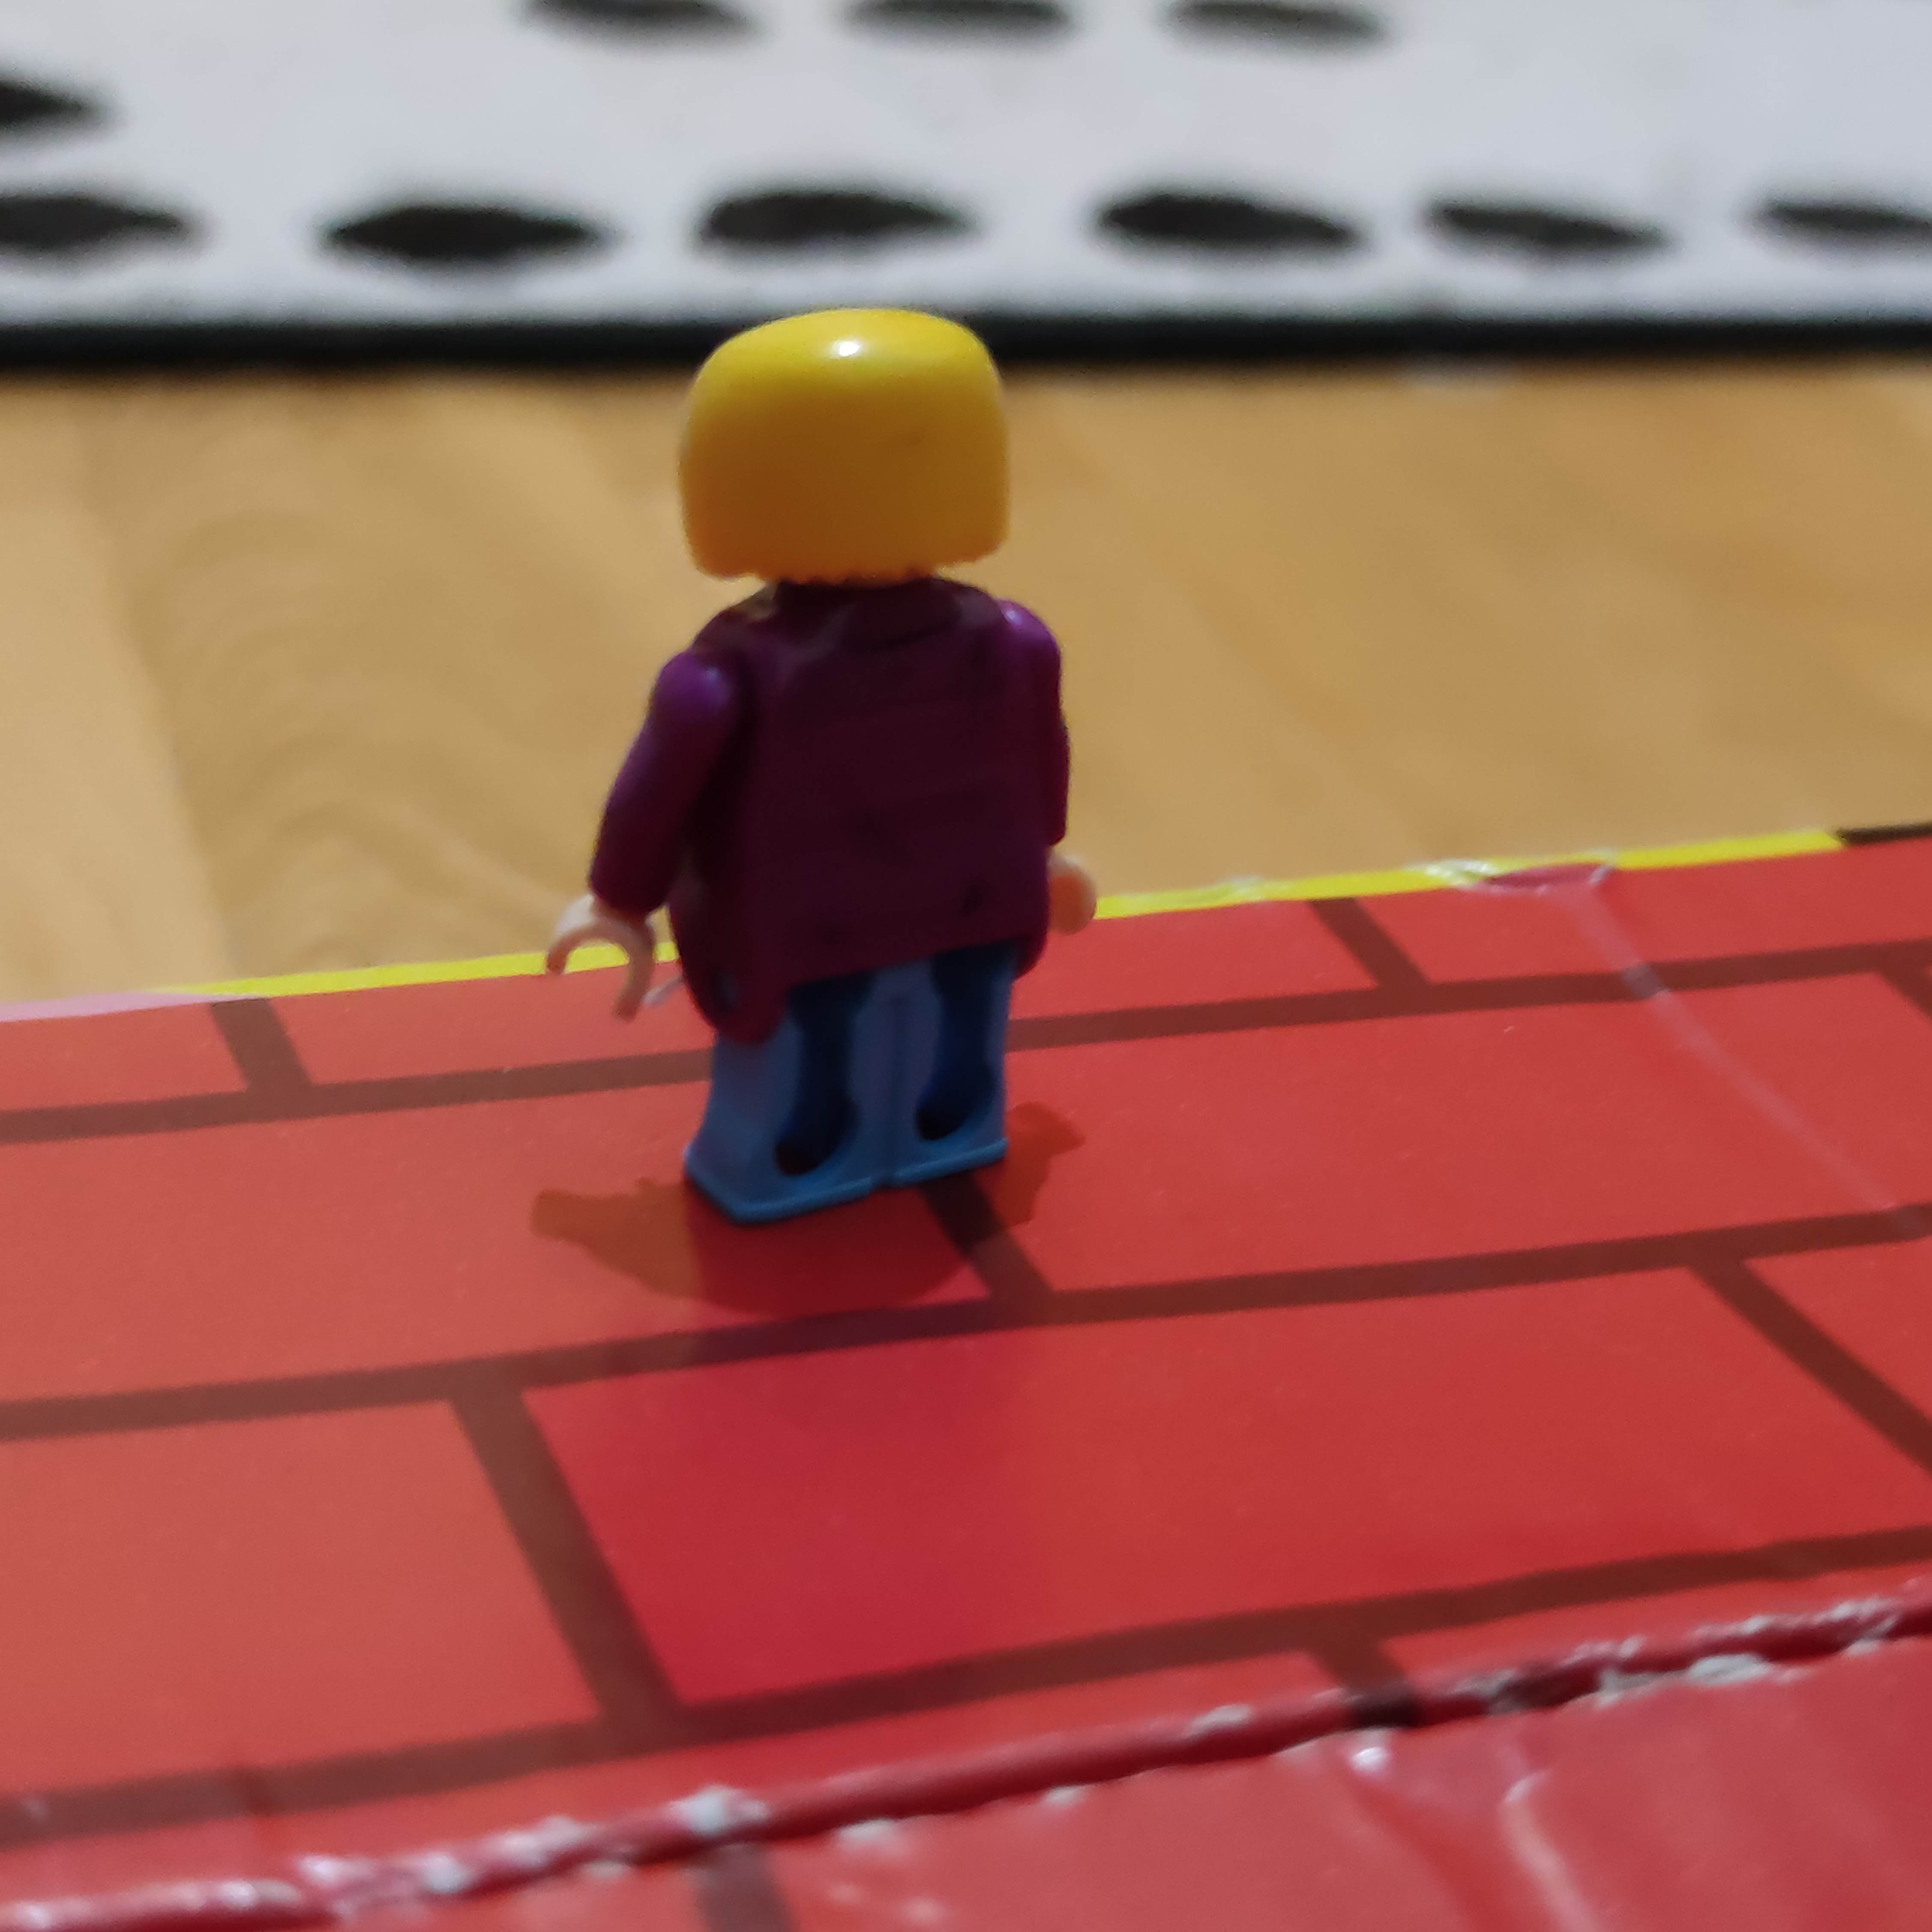lego: (545, 301, 1108, 1230)
